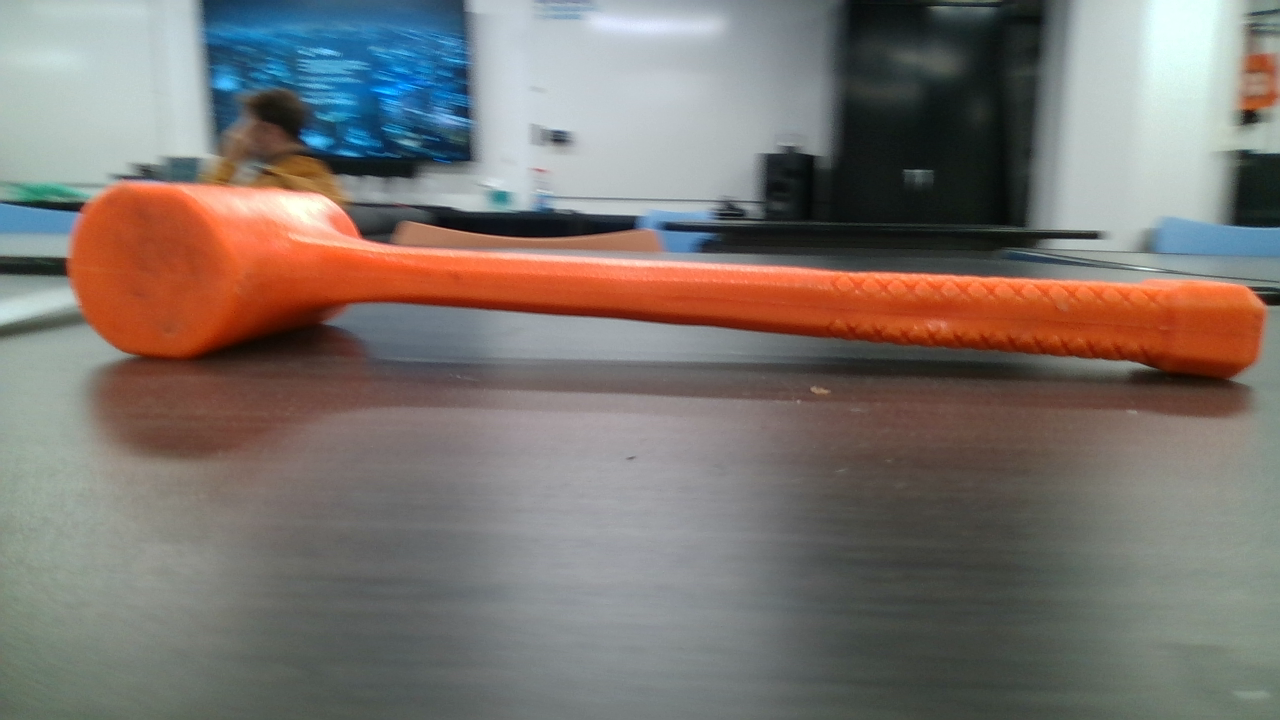Orange Hammer: (66, 180, 1278, 377)
